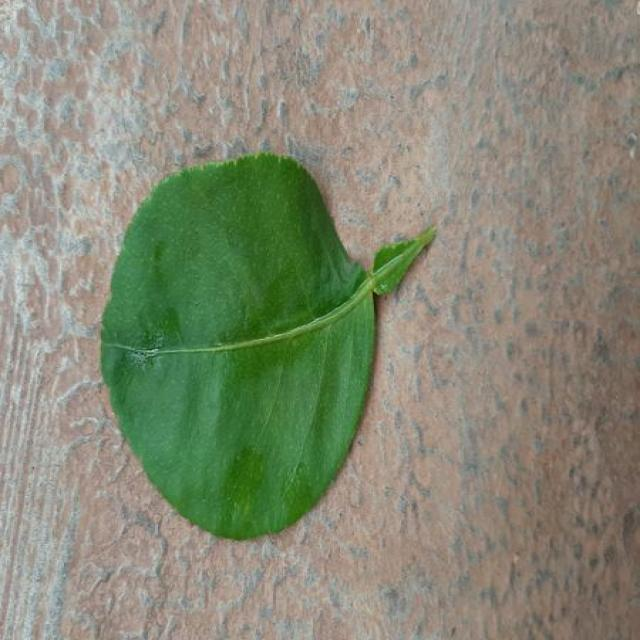lemon: (102, 154, 435, 538)
neem: (102, 154, 435, 538)
